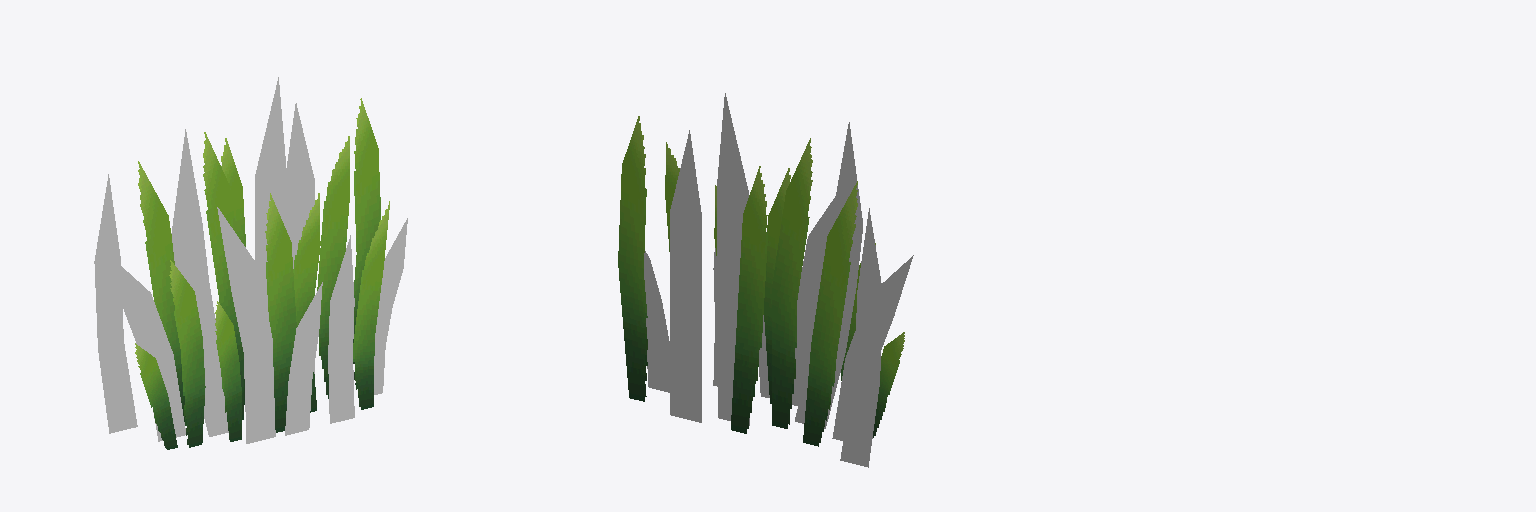
The picture shows the model from 3 angles: view 1: azimuth 30°, elevation 25°; view 2: azimuth 150°, elevation 25°; view 3: azimuth 270°, elevation 25°; orthographic projection.
Parts seen in each view (by area): view 1: Polygon1, Polygon0; view 2: Polygon1, Polygon0; view 3: none.
Boxes of the visible parts, <box> form: Polygon1: <box>94,77,407,443</box>; Polygon0: <box>135,98,389,449</box>; Polygon1: <box>644,93,913,467</box>; Polygon0: <box>618,116,904,446</box>.
Bounding box in the file's own units: 14.76 × 15.65 × 3.97.
2 materials, 1 textured.